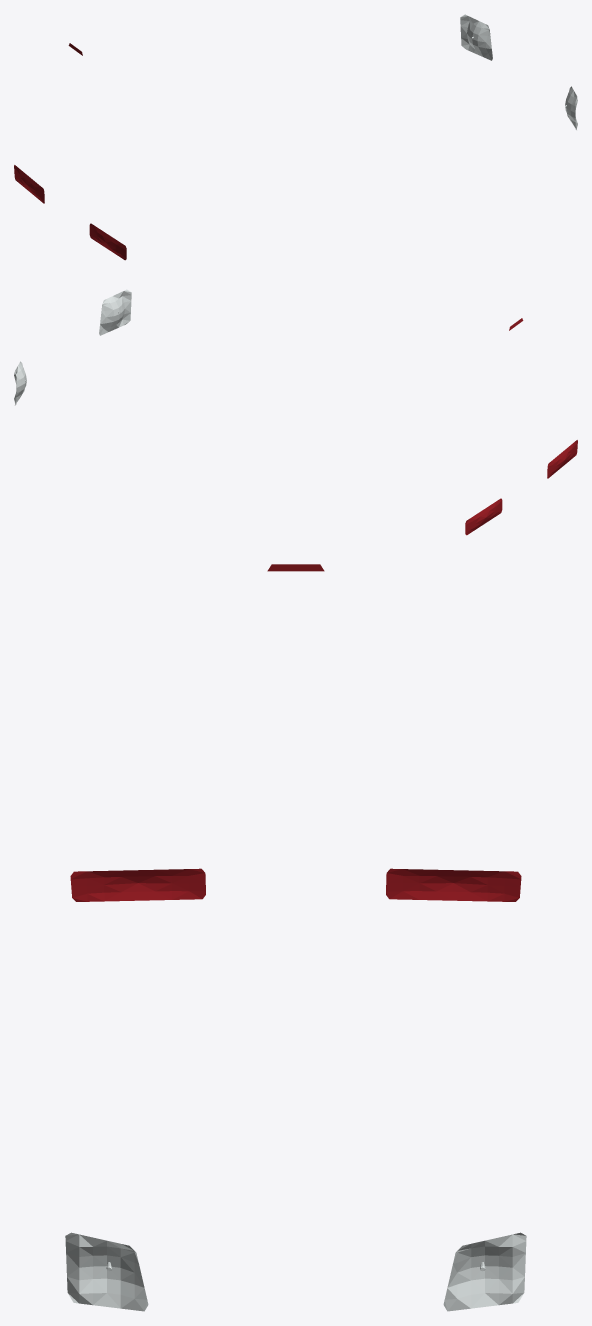
The model's file is acty-hh5-blockout-75-lamps.glb.
3 renders of one model, top to bottom at view 1: azimuth 30°, elevation 25°; view 2: azimuth 150°, elevation 25°; view 3: azimuth 270°, elevation 25°, orthographic. The views are drawn at different scales.
Visible parts, largest first — view 1: Left_Headlight_Reflector, Right_Tail_Lamp, Left_Tail_Lamp, Right_Headlight_Reflector; view 2: Right_Headlight_Reflector, Left_Tail_Lamp, Right_Tail_Lamp, Left_Headlight_Reflector; view 3: Left_Headlight_Reflector, Right_Headlight_Reflector, Left_Tail_Lamp, Right_Tail_Lamp.
Part boxes in pixels (left/top/right/bottom): Left_Headlight_Reflector: left=460, top=14, right=492, bottom=60; Right_Tail_Lamp: left=89, top=223, right=126, bottom=260; Left_Tail_Lamp: left=14, top=165, right=44, bottom=203; Right_Headlight_Reflector: left=565, top=86, right=577, bottom=130; Right_Headlight_Reflector: left=99, top=289, right=131, bottom=335; Left_Tail_Lamp: left=465, top=498, right=502, bottom=535; Right_Tail_Lamp: left=547, top=440, right=577, bottom=478; Left_Headlight_Reflector: left=14, top=361, right=26, bottom=405; Left_Headlight_Reflector: left=443, top=1232, right=526, bottom=1311; Right_Headlight_Reflector: left=65, top=1232, right=148, bottom=1311; Left_Tail_Lamp: left=386, top=868, right=521, bottom=901; Right_Tail_Lamp: left=70, top=868, right=205, bottom=901.
Size of the model in its own units: 3.34 by 1.18 by 1.44.
